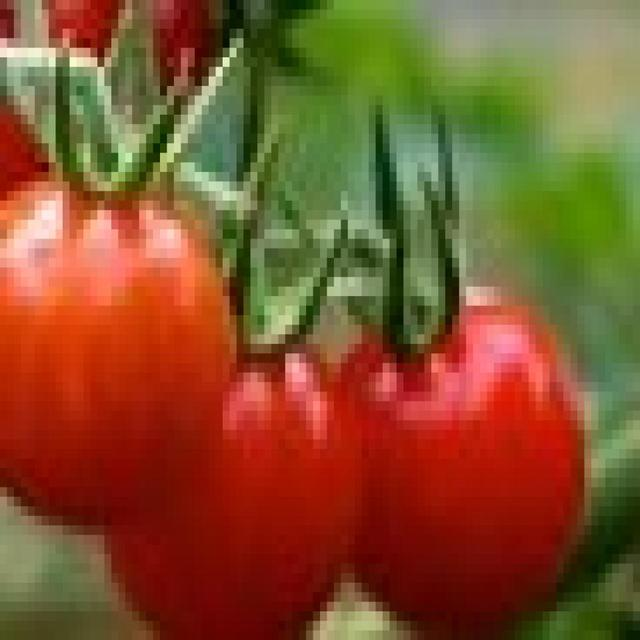Healthy Fruit: (75, 207, 312, 317)
